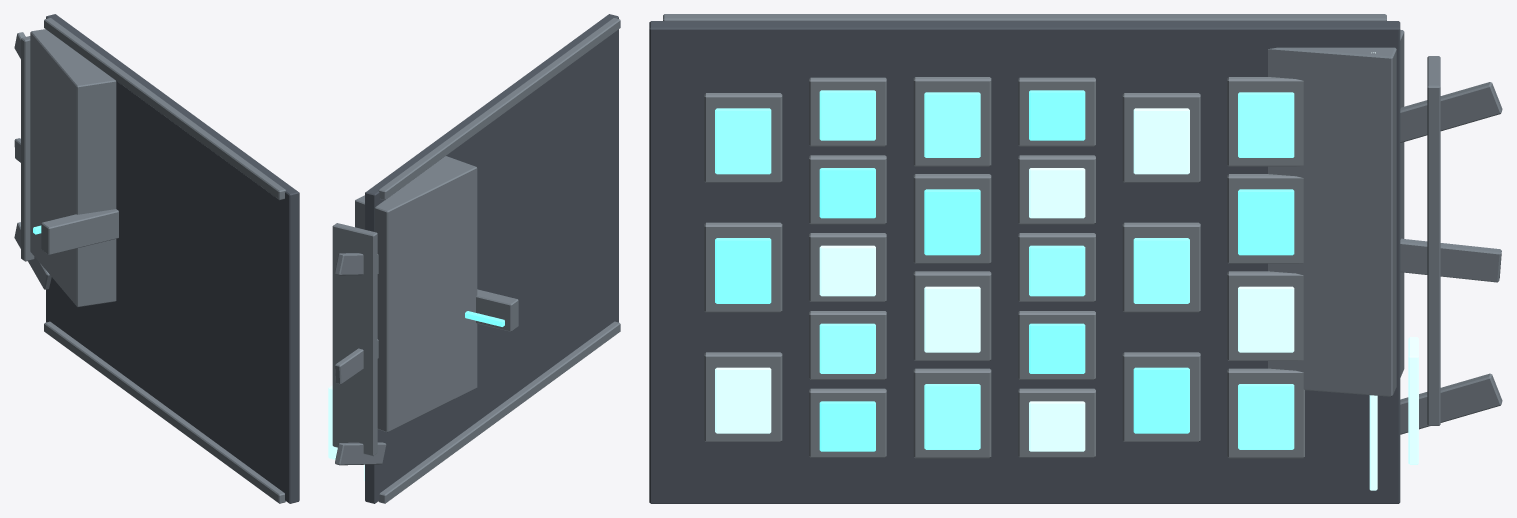
Rendered from facade_rift_l.glb.
3 renders of one model, left to right at view 1: azimuth 30°, elevation 25°; view 2: azimuth 150°, elevation 25°; view 3: azimuth 270°, elevation 25°, orthographic. The views are drawn at different scales.
Visible parts, largest first — view 1: FacadeRift_L; view 2: FacadeRift_L; view 3: FacadeRift_L.
Part boxes in pixels (bbox=[...]): FacadeRift_L: bbox=[14, 14, 299, 503]; FacadeRift_L: bbox=[328, 14, 620, 503]; FacadeRift_L: bbox=[649, 14, 1502, 503].
Size of the model in its own units: 1.48 by 3.96 by 6.36.
